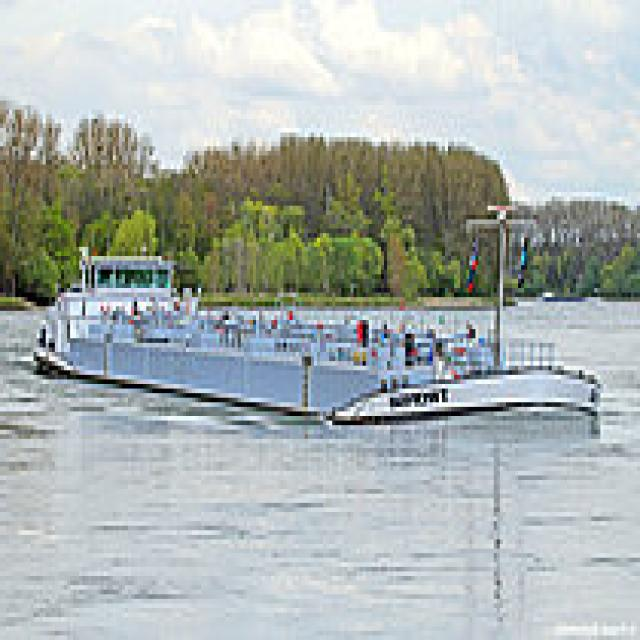Tanker: (34, 192, 606, 425)
